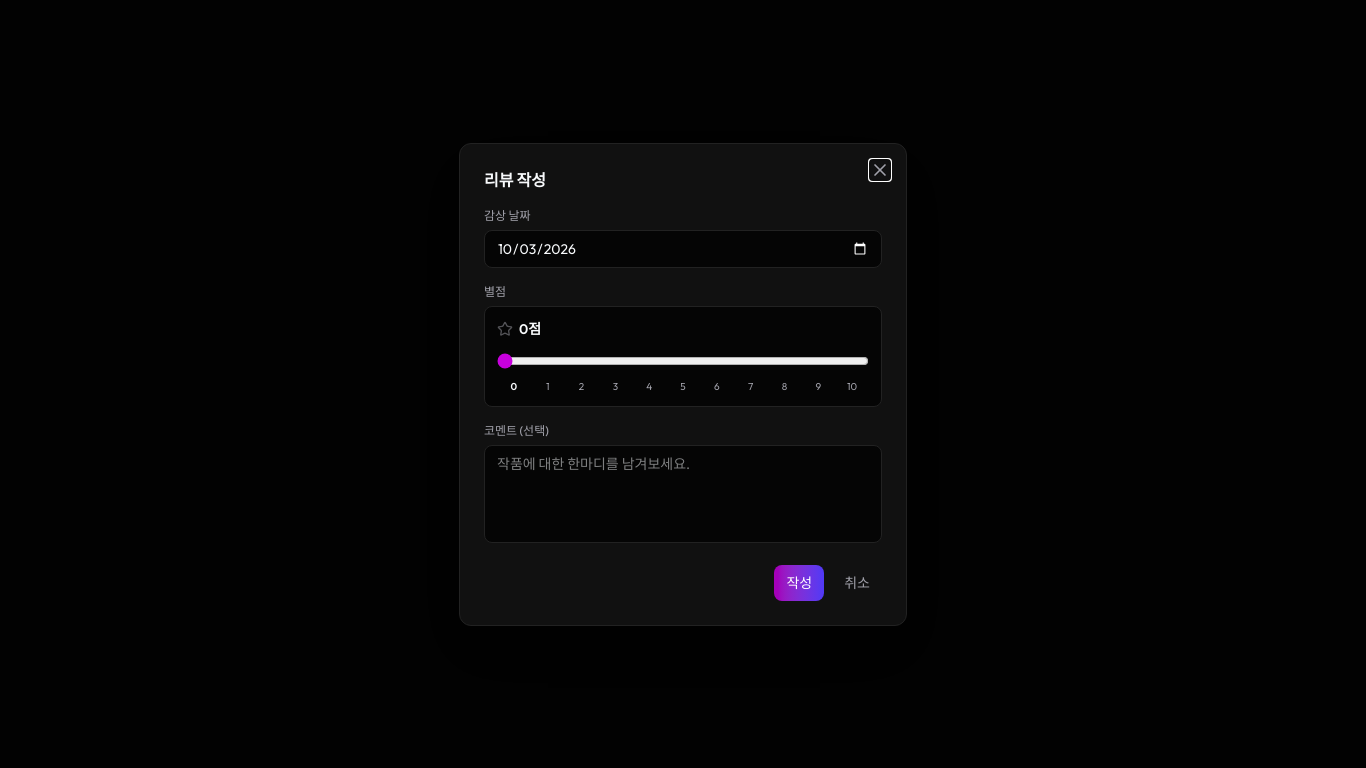
Test: ReviewFormModal › 별점 미선택 상태에서 작성 클릭 시 에러를 표시해야 한다
What coordinates should you click on to do the following:
click the button "작성"
I would click on:
 (799, 582)
Its box is [774,564,824,600].
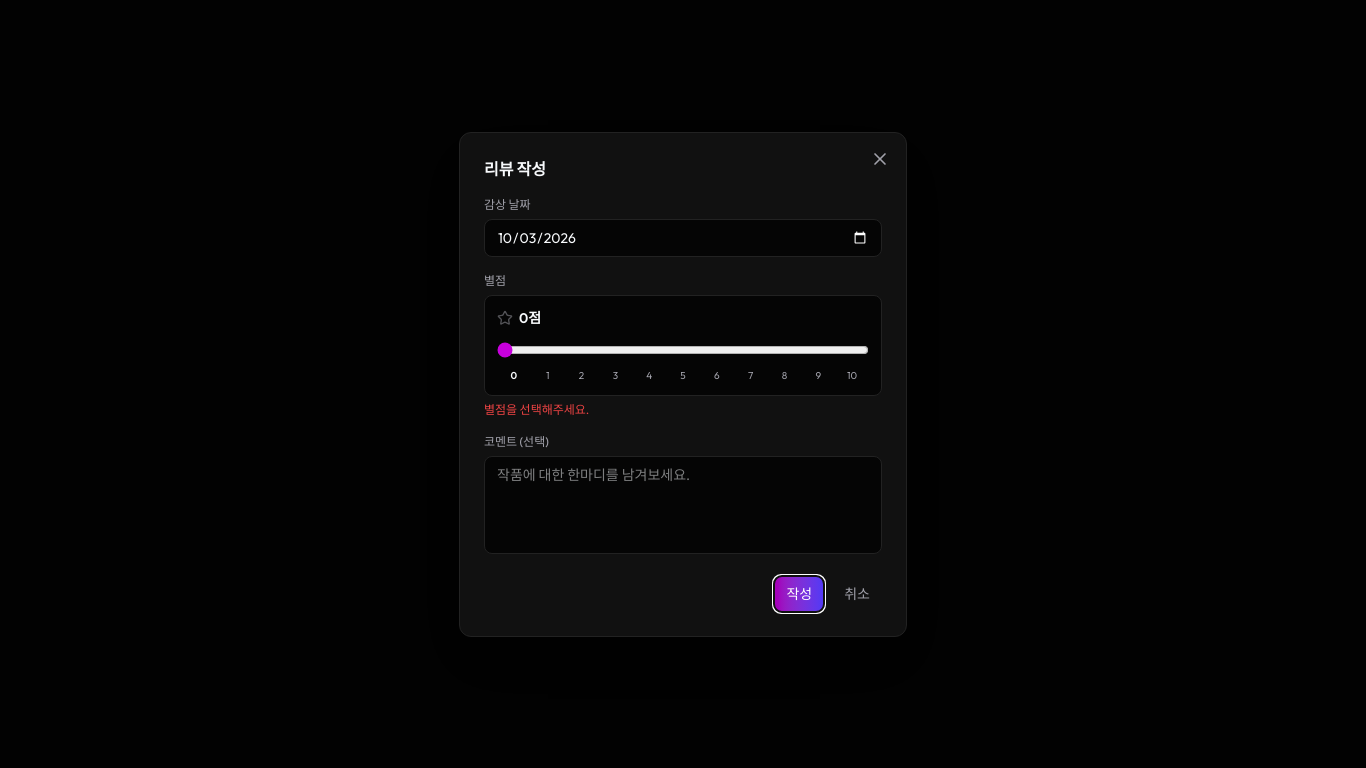
Expected: the text "별점을 선택해주세요." is shown, [484,402,589,416]
